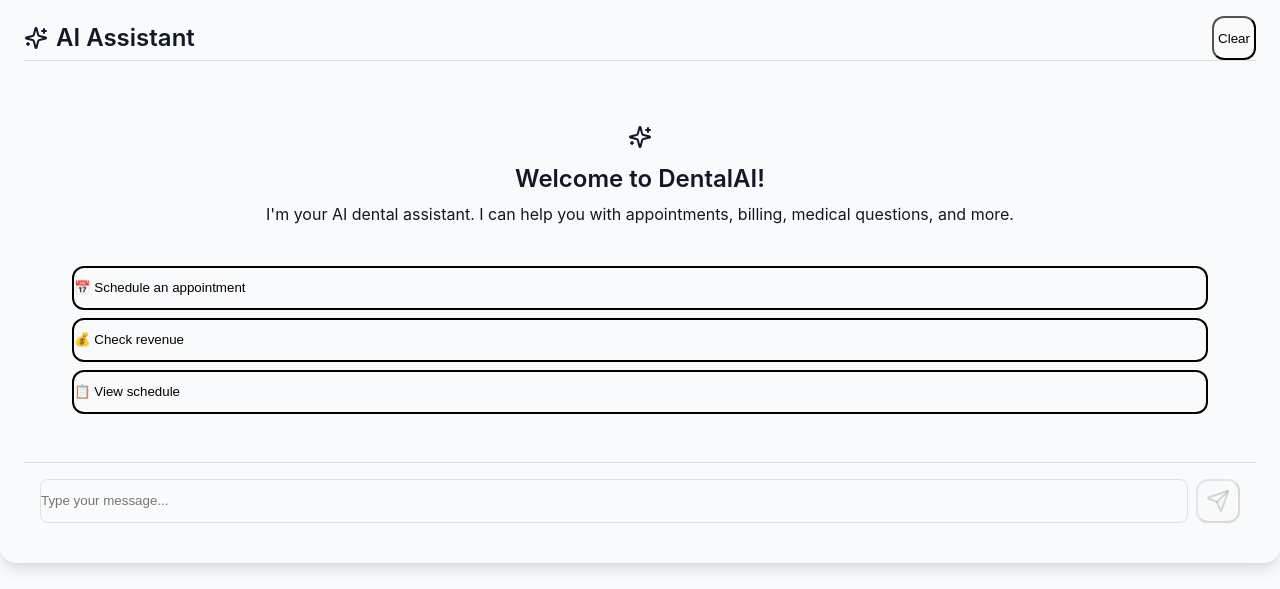
AIChat Component › Message Sending › should show loading state while sending
Type "Hello AI" into the field with placeholder "Type your message..." at (614, 501), box [40,479,1188,523]
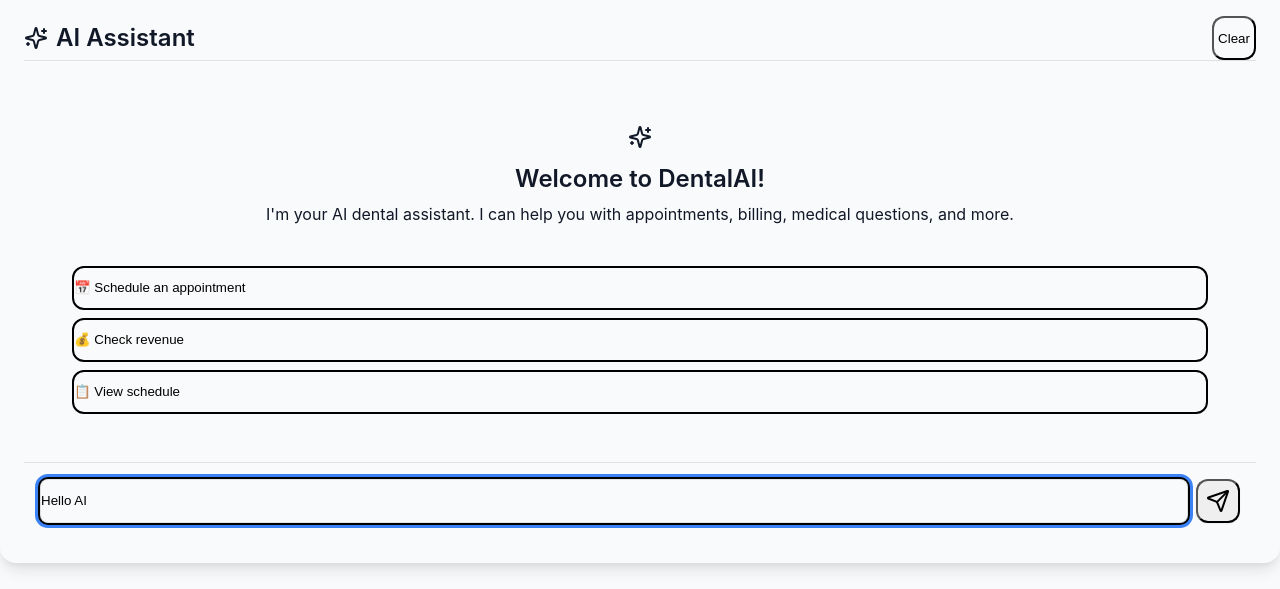
Click the button named "send" at (1218, 501), box [1196,479,1240,523]
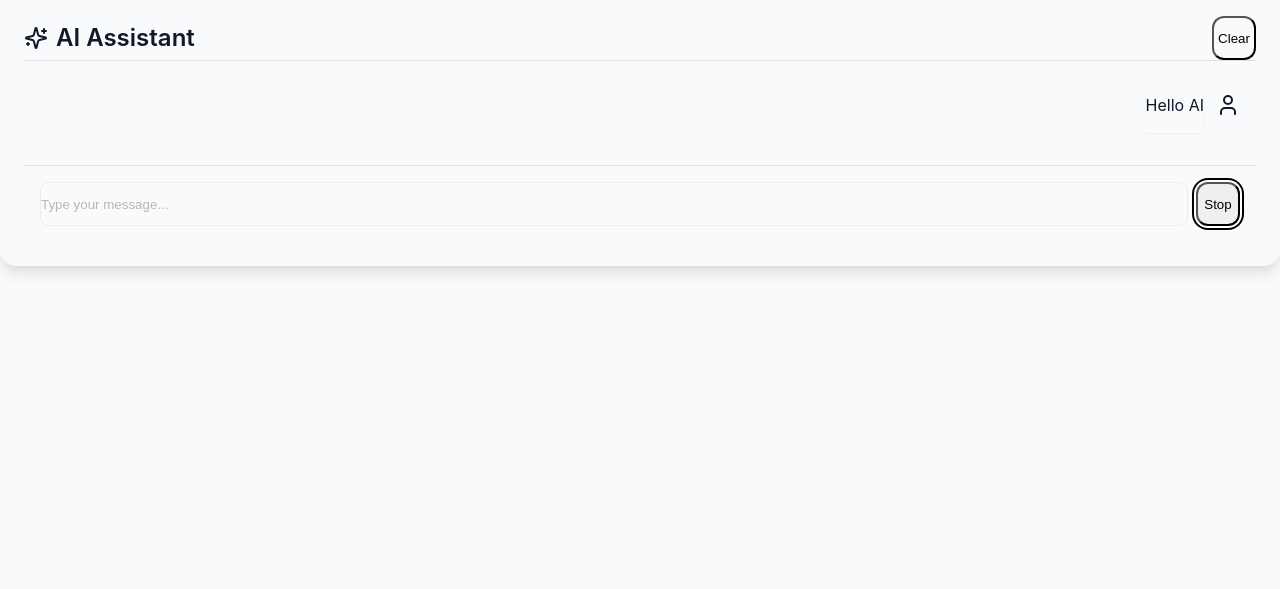
Expected: the button "Stop" is shown, [1196,182,1240,226]
